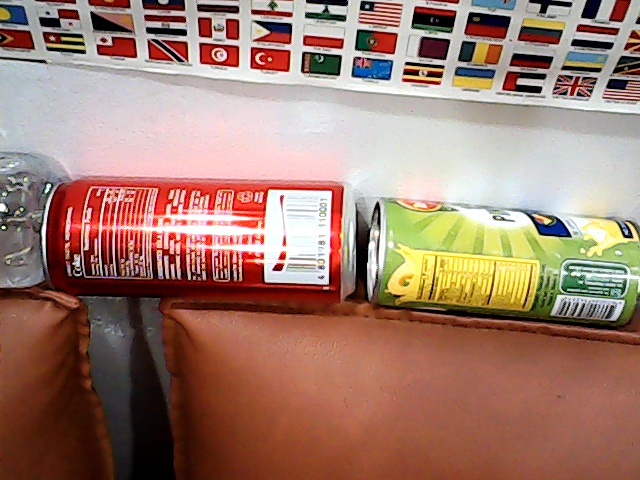Cola: (38, 157, 361, 308)
Pine Juice: (356, 182, 640, 340)
